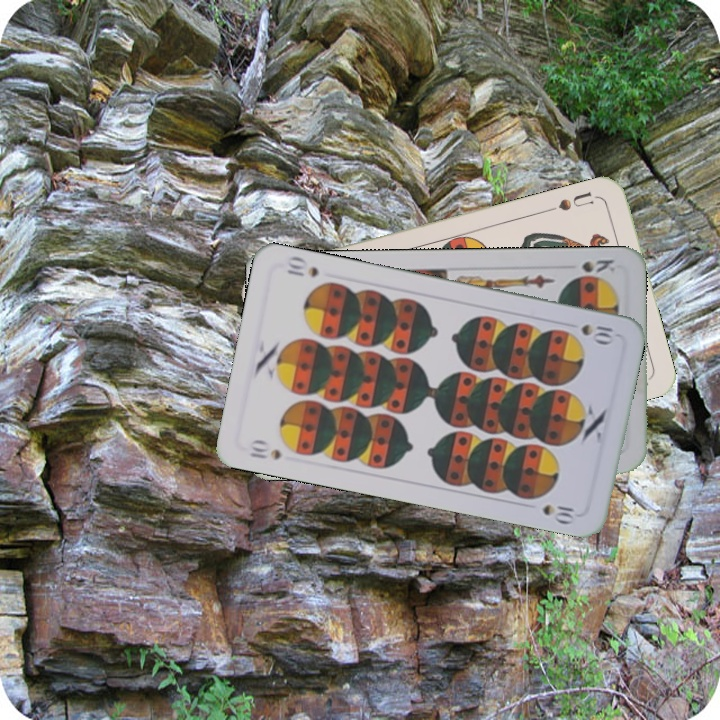S10: (244, 436, 284, 463), (577, 319, 617, 345)
SK: (578, 255, 618, 275)
SU: (543, 188, 602, 215)
